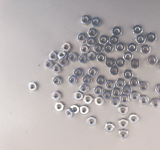nut: (112, 26, 123, 37), (148, 55, 158, 66), (141, 45, 152, 55), (147, 32, 157, 43), (136, 34, 146, 45), (133, 25, 143, 36), (139, 96, 150, 106), (139, 82, 150, 92), (88, 67, 99, 77), (79, 84, 90, 94), (130, 92, 141, 102), (110, 98, 121, 108), (123, 85, 133, 96), (91, 17, 101, 27), (81, 15, 91, 25), (77, 33, 87, 43), (88, 28, 98, 38), (99, 35, 109, 45), (116, 43, 126, 53), (128, 43, 138, 53), (131, 59, 141, 69), (124, 70, 134, 80), (119, 106, 129, 116), (129, 115, 139, 125), (119, 119, 129, 129), (119, 130, 129, 140), (105, 123, 115, 133), (87, 117, 97, 127), (95, 97, 105, 107), (80, 106, 90, 116), (83, 95, 93, 105), (94, 86, 104, 96), (96, 76, 106, 86), (105, 58, 115, 68), (110, 66, 120, 76), (116, 58, 126, 68), (124, 52, 134, 62), (53, 76, 63, 86), (52, 91, 62, 101), (83, 75, 93, 85), (65, 109, 75, 119), (104, 44, 114, 54), (97, 53, 107, 63), (79, 54, 89, 64), (87, 52, 97, 62), (68, 53, 78, 63), (120, 95, 130, 105), (116, 79, 126, 89), (112, 89, 122, 99), (130, 78, 140, 88), (28, 82, 38, 92), (151, 99, 160, 109), (55, 103, 65, 112), (68, 76, 78, 85), (74, 69, 84, 78), (74, 92, 84, 101), (71, 105, 80, 115), (62, 43, 72, 52), (103, 91, 113, 100), (106, 81, 116, 90), (81, 45, 90, 54), (87, 38, 96, 47), (49, 52, 58, 61), (52, 65, 61, 74), (59, 58, 68, 67), (58, 51, 67, 60), (45, 60, 53, 70), (110, 37, 120, 45), (94, 44, 103, 52), (156, 85, 160, 95), (159, 60, 160, 70)
